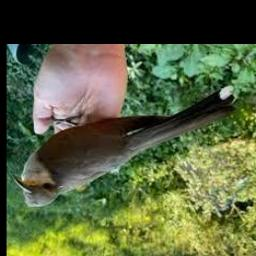Cuckoo: (13, 85, 235, 207)
